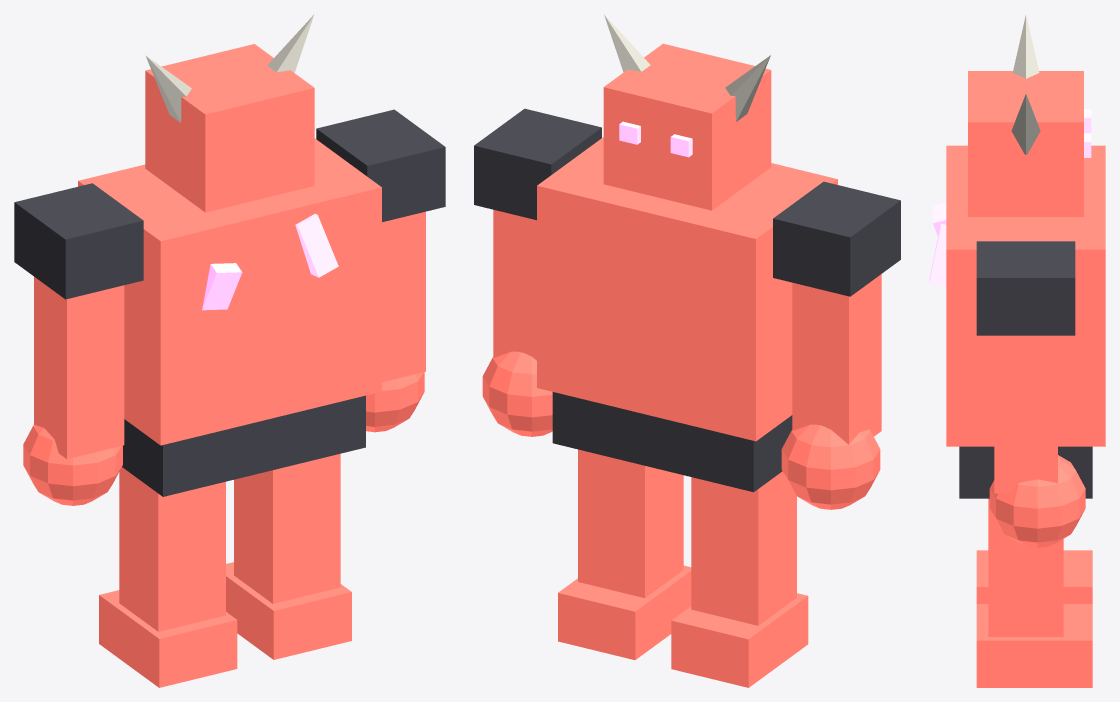
File: miniboss_cave_guardian.glb
3 views of the same model, side by side, from view 1: azimuth 30°, elevation 25°; view 2: azimuth 150°, elevation 25°; view 3: azimuth 270°, elevation 25° (orthographic). The views are drawn at different scales.
Parts seen in each view (by area): view 1: miniboss_cave_guardian_05, miniboss_cave_guardian_12, miniboss_cave_guardian_02, miniboss_cave_guardian_08, miniboss_cave_guardian_03, miniboss_cave_guardian_04, miniboss_cave_guardian_06, miniboss_cave_guardian_07, miniboss_cave_guardian_00, miniboss_cave_guardian_09, miniboss_cave_guardian_01, miniboss_cave_guardian_10 (+5 smaller); view 2: miniboss_cave_guardian_05, miniboss_cave_guardian_12, miniboss_cave_guardian_02, miniboss_cave_guardian_03, miniboss_cave_guardian_08, miniboss_cave_guardian_04, miniboss_cave_guardian_06, miniboss_cave_guardian_07, miniboss_cave_guardian_00, miniboss_cave_guardian_01, miniboss_cave_guardian_10, miniboss_cave_guardian_09 (+3 smaller); view 3: miniboss_cave_guardian_05, miniboss_cave_guardian_12, miniboss_cave_guardian_09, miniboss_cave_guardian_07, miniboss_cave_guardian_03, miniboss_cave_guardian_01, miniboss_cave_guardian_11, miniboss_cave_guardian_04, miniboss_cave_guardian_00, miniboss_cave_guardian_16, miniboss_cave_guardian_15, miniboss_cave_guardian_18 (+1 smaller).
Boxes of the visible parts, x1=… form: miniboss_cave_guardian_05: x1=78, y1=138, x2=381, y2=445; miniboss_cave_guardian_12: x1=145, y1=44, x2=314, y2=212; miniboss_cave_guardian_02: x1=119, y1=467, x2=225, y2=631; miniboss_cave_guardian_08: x1=34, y1=277, x2=124, y2=458; miniboss_cave_guardian_03: x1=234, y1=453, x2=340, y2=603; miniboss_cave_guardian_04: x1=122, y1=395, x2=365, y2=496; miniboss_cave_guardian_06: x1=14, y1=183, x2=143, y2=299; miniboss_cave_guardian_07: x1=316, y1=109, x2=445, y2=222; miniboss_cave_guardian_00: x1=99, y1=590, x2=237, y2=687; miniboss_cave_guardian_09: x1=382, y1=211, x2=425, y2=382; miniboss_cave_guardian_01: x1=226, y1=562, x2=351, y2=659; miniboss_cave_guardian_10: x1=23, y1=425, x2=122, y2=505; miniboss_cave_guardian_05: x1=537, y1=137, x2=837, y2=441; miniboss_cave_guardian_12: x1=603, y1=43, x2=771, y2=210; miniboss_cave_guardian_02: x1=691, y1=471, x2=796, y2=625; miniboss_cave_guardian_03: x1=578, y1=449, x2=683, y2=597; miniboss_cave_guardian_08: x1=792, y1=274, x2=881, y2=444; miniboss_cave_guardian_04: x1=552, y1=392, x2=792, y2=492; miniboss_cave_guardian_06: x1=773, y1=181, x2=900, y2=296; miniboss_cave_guardian_07: x1=474, y1=108, x2=601, y2=220; miniboss_cave_guardian_00: x1=671, y1=593, x2=808, y2=687; miniboss_cave_guardian_01: x1=558, y1=565, x2=691, y2=659; miniboss_cave_guardian_10: x1=781, y1=424, x2=880, y2=509; miniboss_cave_guardian_09: x1=493, y1=209, x2=536, y2=360; miniboss_cave_guardian_05: x1=946, y1=145, x2=1105, y2=446; miniboss_cave_guardian_12: x1=968, y1=71, x2=1083, y2=216; miniboss_cave_guardian_09: x1=994, y1=335, x2=1057, y2=493; miniboss_cave_guardian_07: x1=976, y1=241, x2=1075, y2=335; miniboss_cave_guardian_03: x1=988, y1=498, x2=1063, y2=636; miniboss_cave_guardian_01: x1=976, y1=604, x2=1092, y2=687; miniboss_cave_guardian_11: x1=989, y1=455, x2=1085, y2=547; miniboss_cave_guardian_04: x1=959, y1=446, x2=1092, y2=498; miniboss_cave_guardian_00: x1=976, y1=550, x2=1092, y2=603; miniboss_cave_guardian_16: x1=1011, y1=94, x2=1040, y2=154; miniboss_cave_guardian_15: x1=1012, y1=14, x2=1039, y2=78; miniboss_cave_guardian_18: x1=929, y1=224, x2=946, y2=286.
Bounding box in the file's own units: 1.49 × 2.24 × 0.6092.
